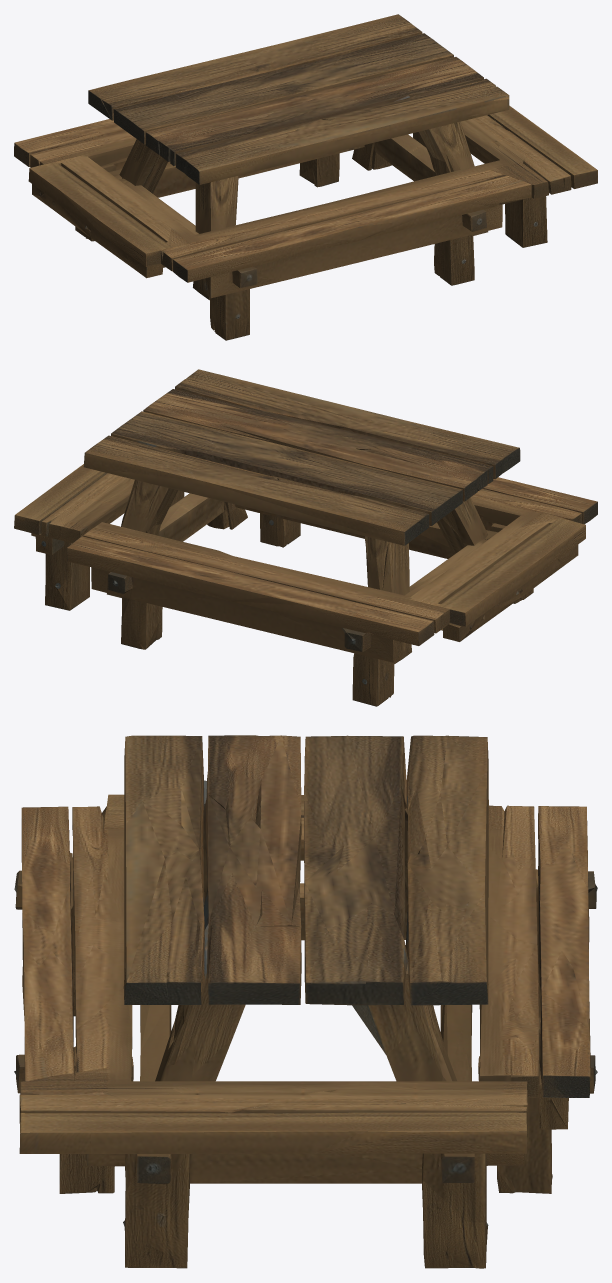
File: picnic.glb
3 renders of one model, top to bottom at view 1: azimuth 30°, elevation 25°; view 2: azimuth 150°, elevation 25°; view 3: azimuth 270°, elevation 25°, orthographic. The views are drawn at different scales.
Size of the model in its own units: 1.9 by 0.6731 by 1.38.
Materials: 1 (1 with a texture image).
